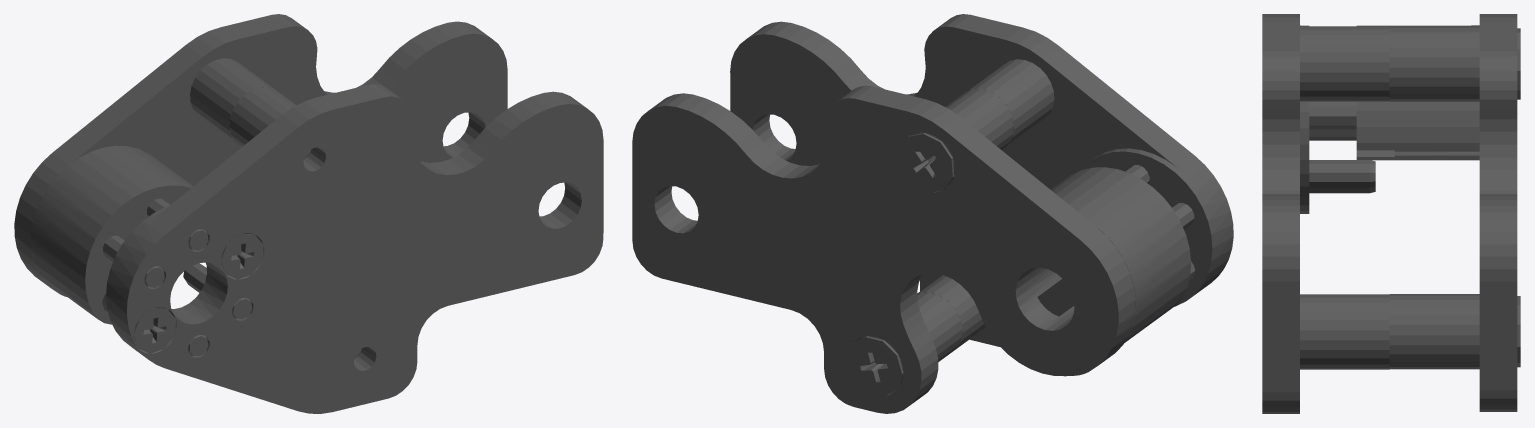
Rendered from Finger2.dae.
3 renders of one model, left to right at view 1: azimuth 30°, elevation 25°; view 2: azimuth 150°, elevation 25°; view 3: azimuth 270°, elevation 25°, orthographic. The views are drawn at different scales.
Visible parts, largest first — view 1: node; view 2: node; view 3: node.
Boxes of the visible parts, bbox=[...] form: node: bbox=[14, 14, 603, 413]; node: bbox=[632, 14, 1233, 413]; node: bbox=[1262, 14, 1520, 413].
Bounding box in the file's own units: 0.033 × 0.02 × 0.0137.
Materials: 1 (1 with a texture image).
